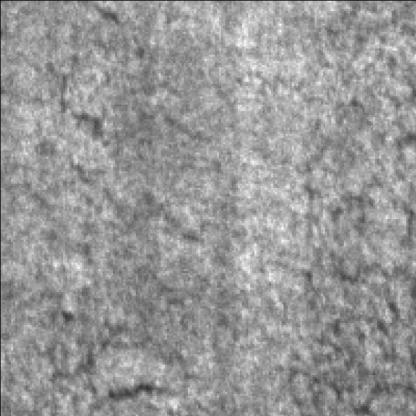crazing: (256, 81, 412, 412), (8, 4, 212, 256), (4, 289, 198, 414)
